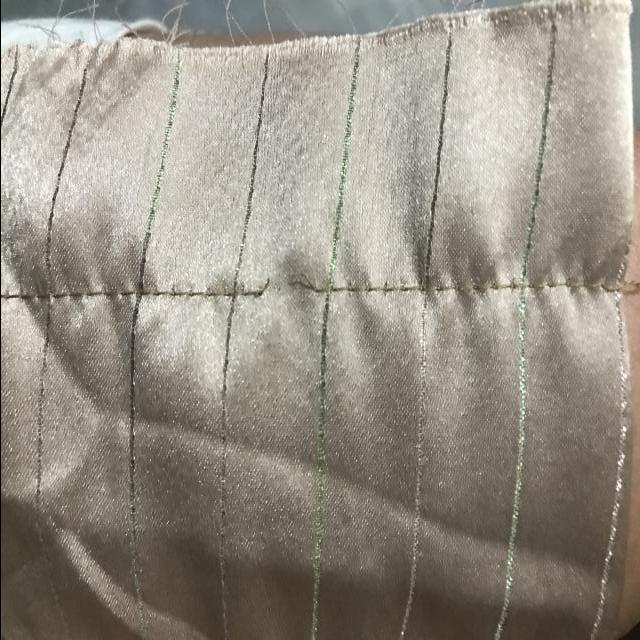Broken: (247, 272, 324, 329)
